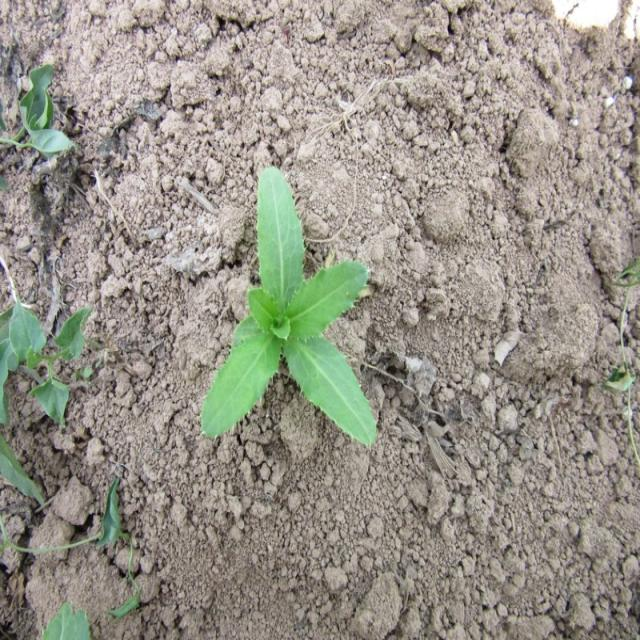field_thistle: (190, 158, 396, 447)
